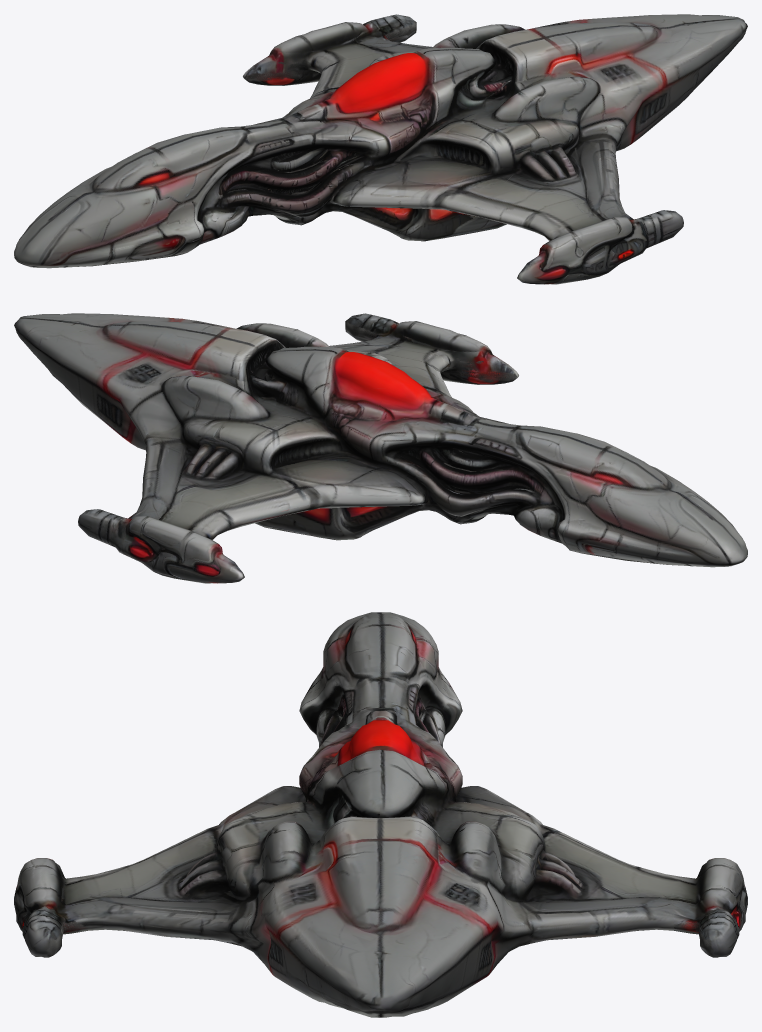
The model's file is Serpent_Fighter.glb.
3 renders of one model, top to bottom at view 1: azimuth 30°, elevation 25°; view 2: azimuth 150°, elevation 25°; view 3: azimuth 270°, elevation 25°, orthographic. The views are drawn at different scales.
Bounding box in the file's own units: 1.91 × 0.4423 × 1.32.
Materials: 1 (1 with a texture image).
